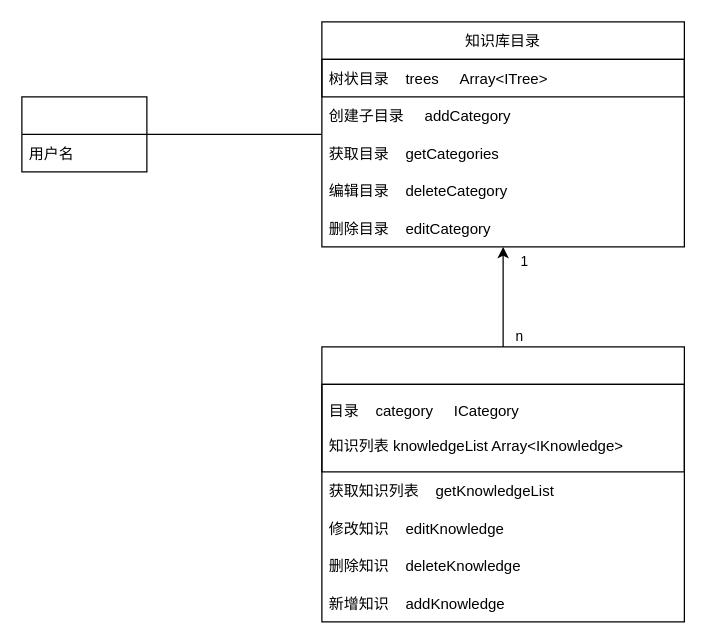
Some shapes in this 706 by 644 pixel diagram are drawn without their labels. Here are the shapes that lost their labels. From the top down, the box of each, then its label:
(21, 96, 147, 172): 用户
(321, 346, 684, 622): 知识表
